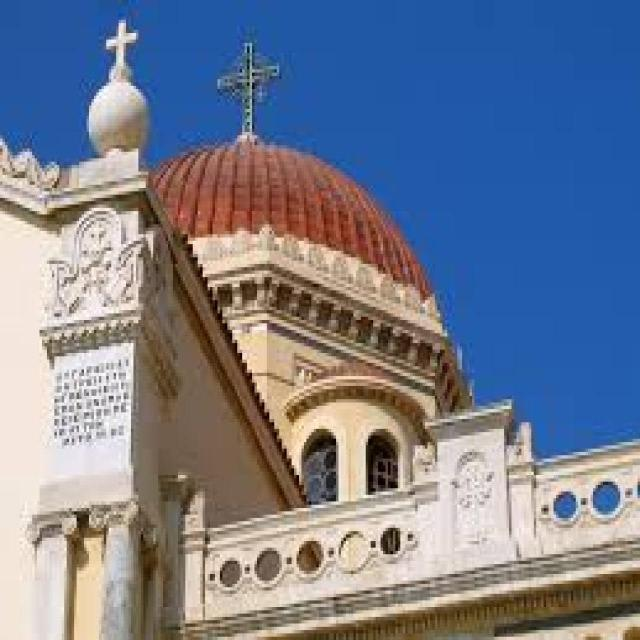Agios Minas: (3, 21, 640, 640)
